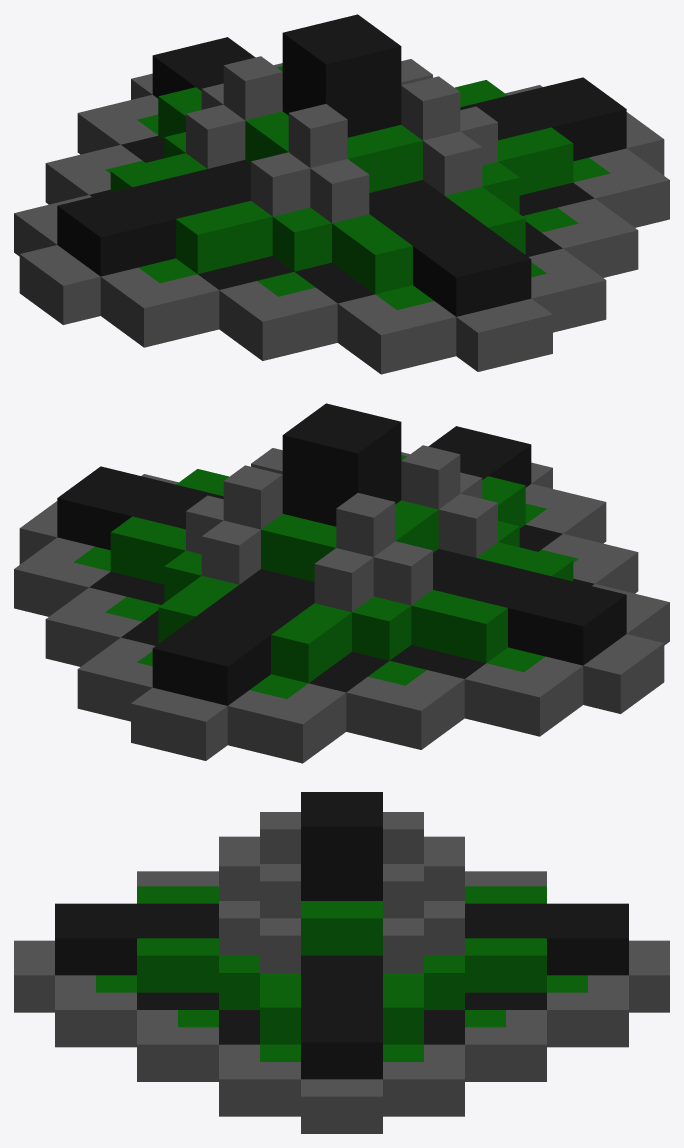
File: aoeTowerTop.fbx
The picture shows the model from 3 angles, top to bottom: view 1: azimuth 30°, elevation 25°; view 2: azimuth 150°, elevation 25°; view 3: azimuth 270°, elevation 25°; orthographic projection. The views are drawn at different scales.
Parts seen in each view (by area): view 1: aoeTower_2; view 2: aoeTower_2; view 3: aoeTower_2.
Part boxes in pixels (x1,y1,x2,y2): aoeTower_2: (14,14,669,374); aoeTower_2: (14,403,669,763); aoeTower_2: (14,792,669,1133).
Bounding box in the file's own units: 16 × 7 × 16.
1 material, 1 textured.
